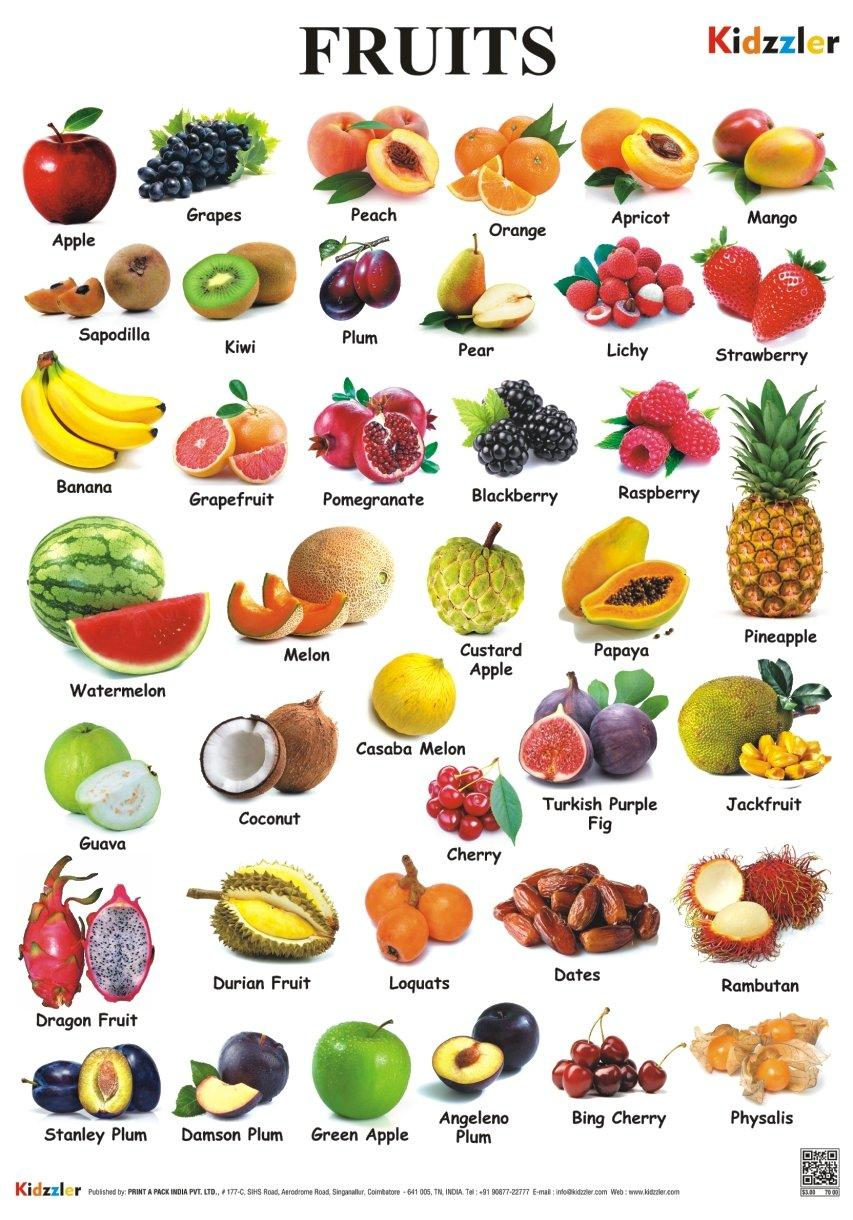chuoi: (17, 349, 165, 476)
thanh_long: (21, 858, 84, 1004)
xoai: (745, 122, 826, 191)
